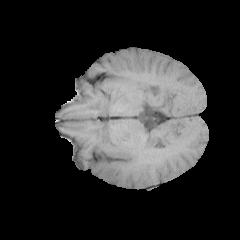glioma: (88, 144, 137, 183)
